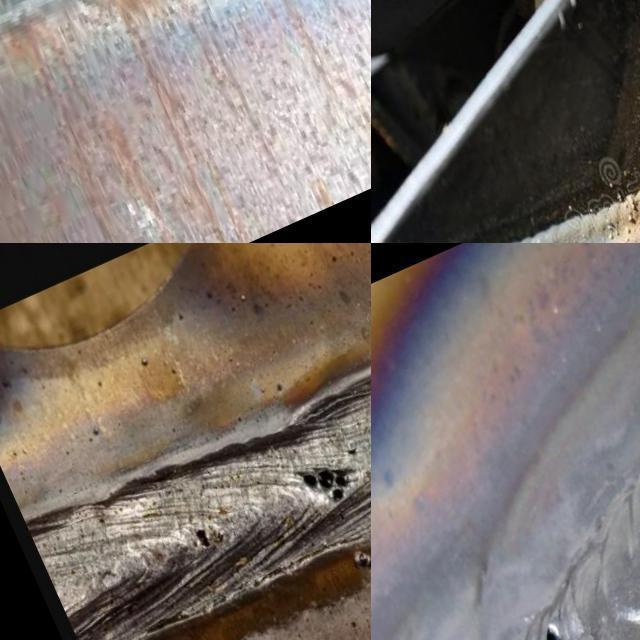defect: (295, 464, 359, 506), (600, 195, 640, 243), (189, 528, 214, 554), (346, 446, 358, 455)
